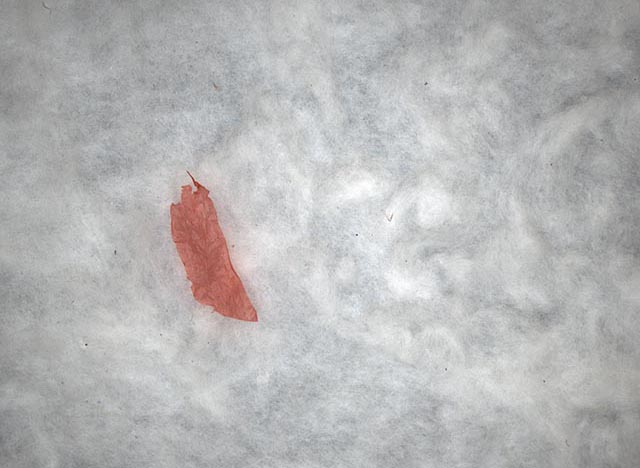plastic film: (167, 170, 260, 324)
